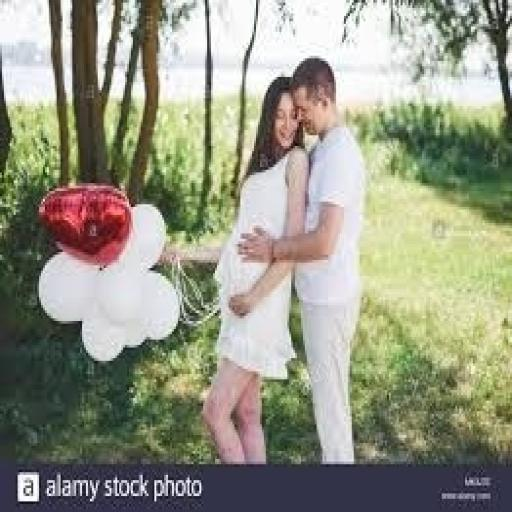hugging: (202, 53, 370, 464)
